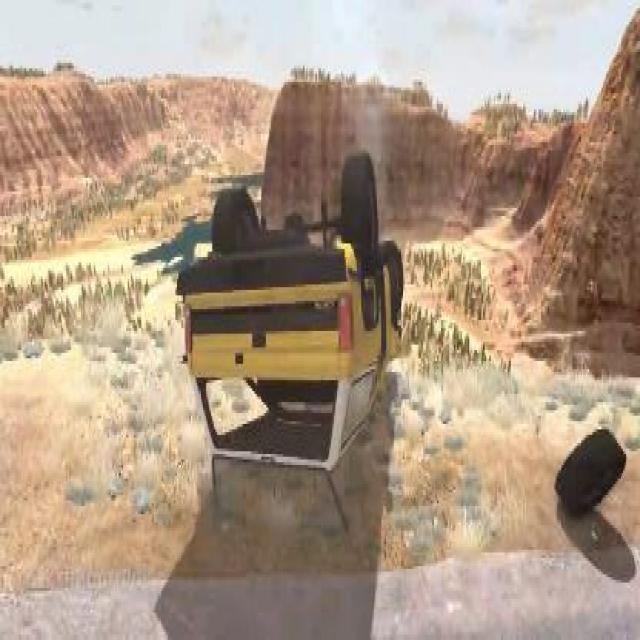accident: (163, 148, 411, 478)
